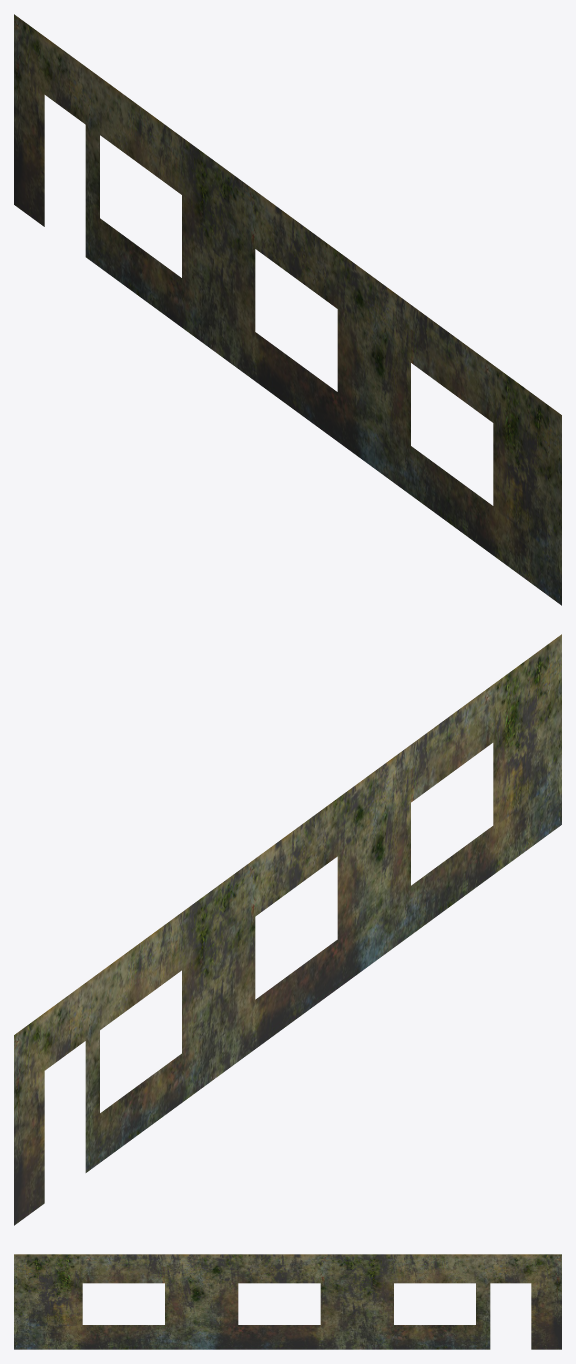
File: Wall_06.FBX
3 renders of one model, top to bottom at view 1: azimuth 30°, elevation 25°; view 2: azimuth 150°, elevation 25°; view 3: azimuth 270°, elevation 25°, orthographic. The views are drawn at different scales.
Parts seen in each view (by area): view 1: Wall_06; view 2: Wall_06; view 3: Wall_06.
Boxes of the visible parts, box(x1,y1,x2,y2) form: Wall_06: box(14, 14, 561, 605); Wall_06: box(14, 634, 561, 1225); Wall_06: box(14, 1254, 561, 1349).
Bounding box in the file's own units: 0.012 × 320 × 1667.
